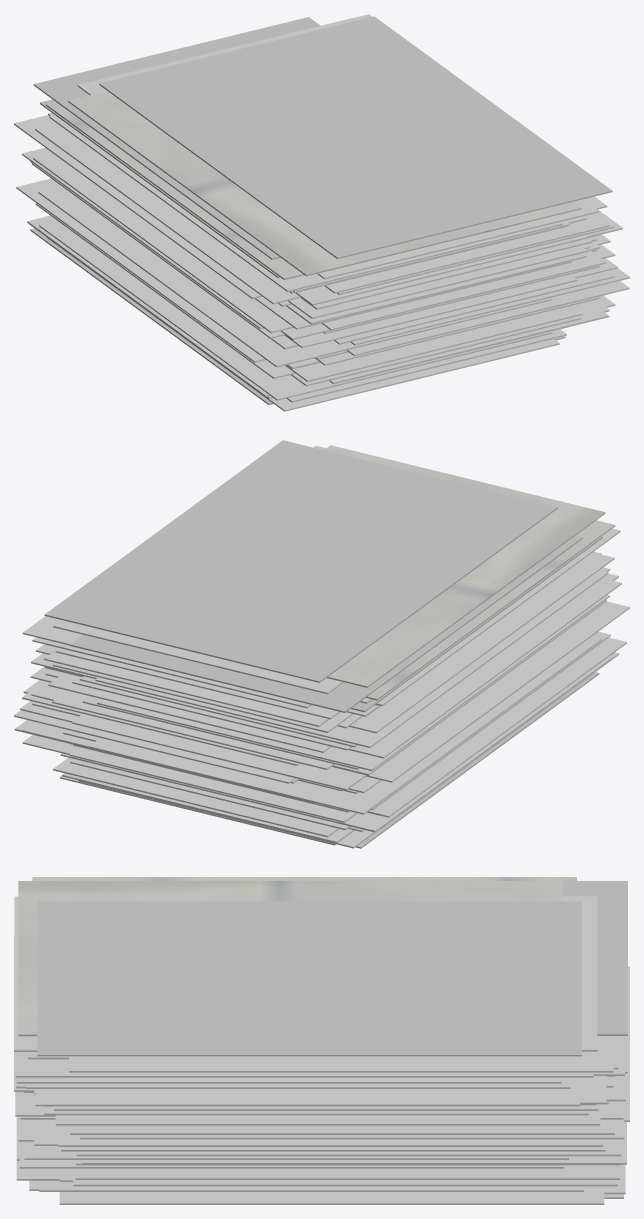
File: PaperStack.fbx
3 views of the same model, one above another, from view 1: azimuth 30°, elevation 25°; view 2: azimuth 150°, elevation 25°; view 3: azimuth 270°, elevation 25° (orthographic). The views are drawn at different scales.
Parts seen in each view (by area): view 1: Plane.099, Plane.098, Plane.038, Plane.014, Plane.096, Plane.076, Plane.058, Plane.024, Plane.089, Plane.028, Plane.082, Plane.095 (+27 smaller); view 2: Plane.099, Plane.098, Plane.028, Plane.096, Plane.038, Plane.076, Plane.058, Plane.014, Plane.074, Plane.043, Plane.055, Plane.006 (+28 smaller); view 3: Plane.099, Plane.098, Plane.072, Plane.092, Plane.013, Plane.026, Plane.059, Plane.051, Plane.096, Plane.048, Plane.025, Plane.080 (+21 smaller).
Part boxes in pixels (x1=…): Plane.099: x1=99, y1=16, x2=612, y2=259; Plane.098: x1=68, y1=91, x2=581, y2=276; Plane.038: x1=38, y1=186, x2=551, y2=367; Plane.014: x1=39, y1=220, x2=552, y2=400; Plane.096: x1=33, y1=17, x2=320, y2=259; Plane.076: x1=35, y1=123, x2=300, y2=304; Plane.058: x1=33, y1=153, x2=293, y2=333; Plane.024: x1=285, y1=305, x2=582, y2=381; Plane.089: x1=49, y1=115, x2=562, y2=291; Plane.028: x1=16, y1=178, x2=265, y2=362; Plane.082: x1=324, y1=213, x2=609, y2=293; Plane.095: x1=46, y1=102, x2=304, y2=279; Plane.099: x1=44, y1=440, x2=557, y2=682; Plane.098: x1=324, y1=445, x2=605, y2=687; Plane.028: x1=89, y1=636, x2=601, y2=814; Plane.096: x1=70, y1=535, x2=582, y2=712; Plane.038: x1=366, y1=601, x2=629, y2=782; Plane.076: x1=349, y1=552, x2=614, y2=733; Plane.058: x1=348, y1=578, x2=621, y2=758; Plane.014: x1=367, y1=637, x2=626, y2=817; Plane.074: x1=95, y1=570, x2=608, y2=747; Plane.043: x1=71, y1=714, x2=366, y2=790; Plane.055: x1=97, y1=595, x2=609, y2=770; Plane.006: x1=53, y1=757, x2=338, y2=837; Plane.099: x1=37, y1=901, x2=581, y2=1056; Plane.098: x1=18, y1=881, x2=562, y2=1036; Plane.072: x1=35, y1=1077, x2=579, y2=1106; Plane.092: x1=69, y1=1036, x2=613, y2=1072; Plane.013: x1=59, y1=1186, x2=604, y2=1204; Plane.026: x1=75, y1=1165, x2=619, y2=1179; Plane.059: x1=55, y1=1104, x2=600, y2=1125; Plane.051: x1=70, y1=1119, x2=614, y2=1134; Plane.096: x1=563, y1=881, x2=627, y2=1035; Plane.048: x1=58, y1=1125, x2=602, y2=1146; Plane.025: x1=73, y1=1168, x2=617, y2=1186; Plane.080: x1=16, y1=1077, x2=561, y2=1083.
Size of the model in its own units: 67.7 by 26.05 by 88.4.
